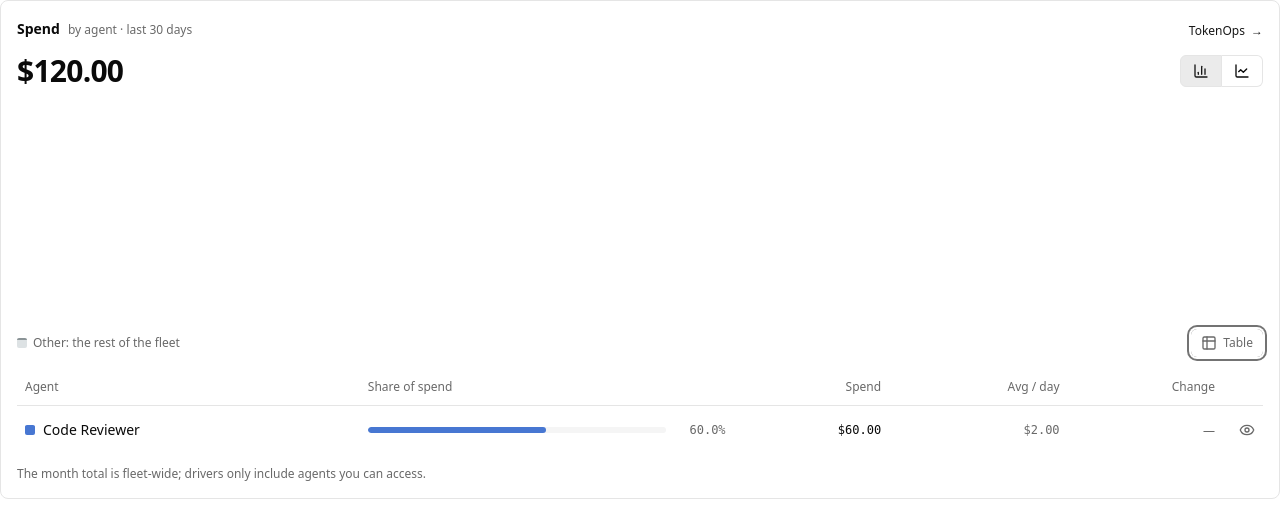
Test: Spend chart › keys each driver to its colour, and the Table view lists the stacked days by keyboard
This screenshot has width=1280, height=516.
Expected: the element showing "Other: the rest of the fleet Table" is shown, [17,329,1263,357]
Press Enter
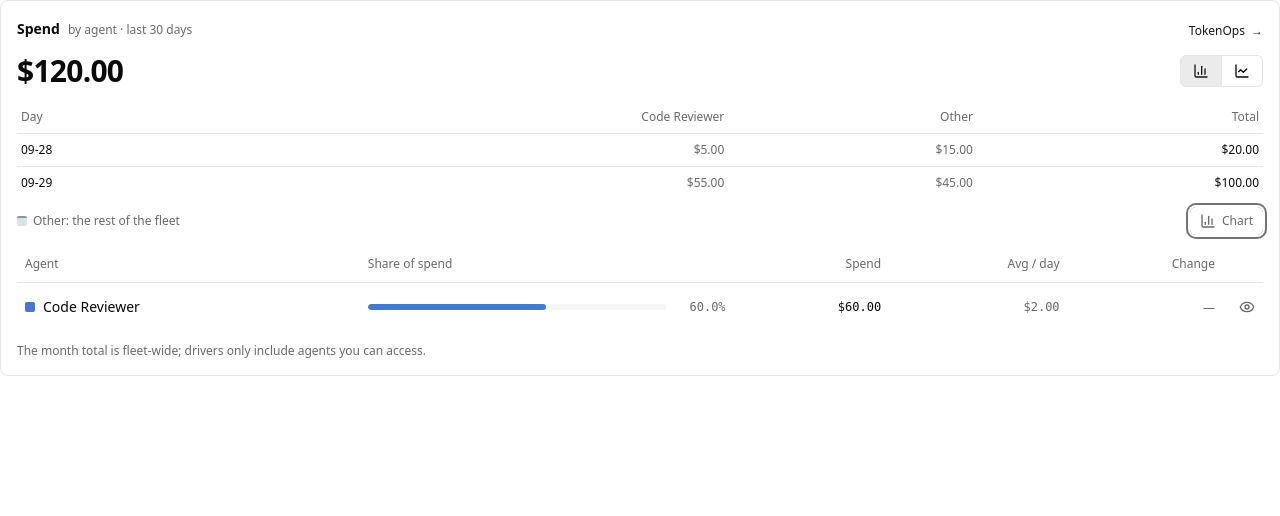
Now the column headings read "Day", "Code Reviewer", "Other", "Total", in this order, box [17,101,232,133]; [232,101,728,133]; [728,101,977,133]; [977,101,1263,133]
Click the button "Chart": (1226, 220) [1190,206,1263,234]
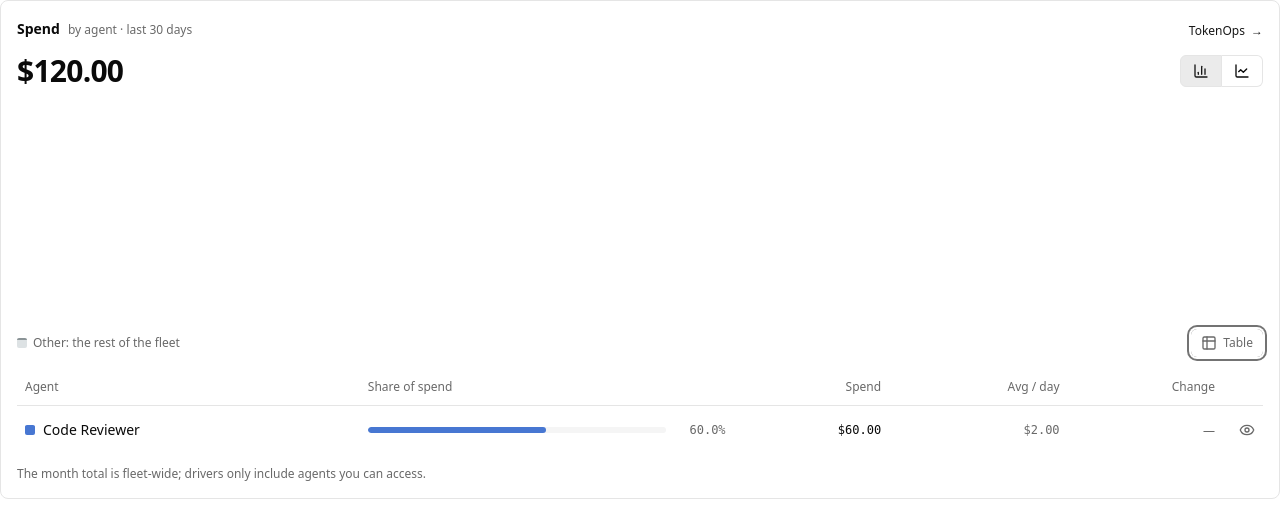
Now the table "09-28 $5.00 $15.00 $20.00 09-29 $55.00 $45.00 $100.00" is gone
